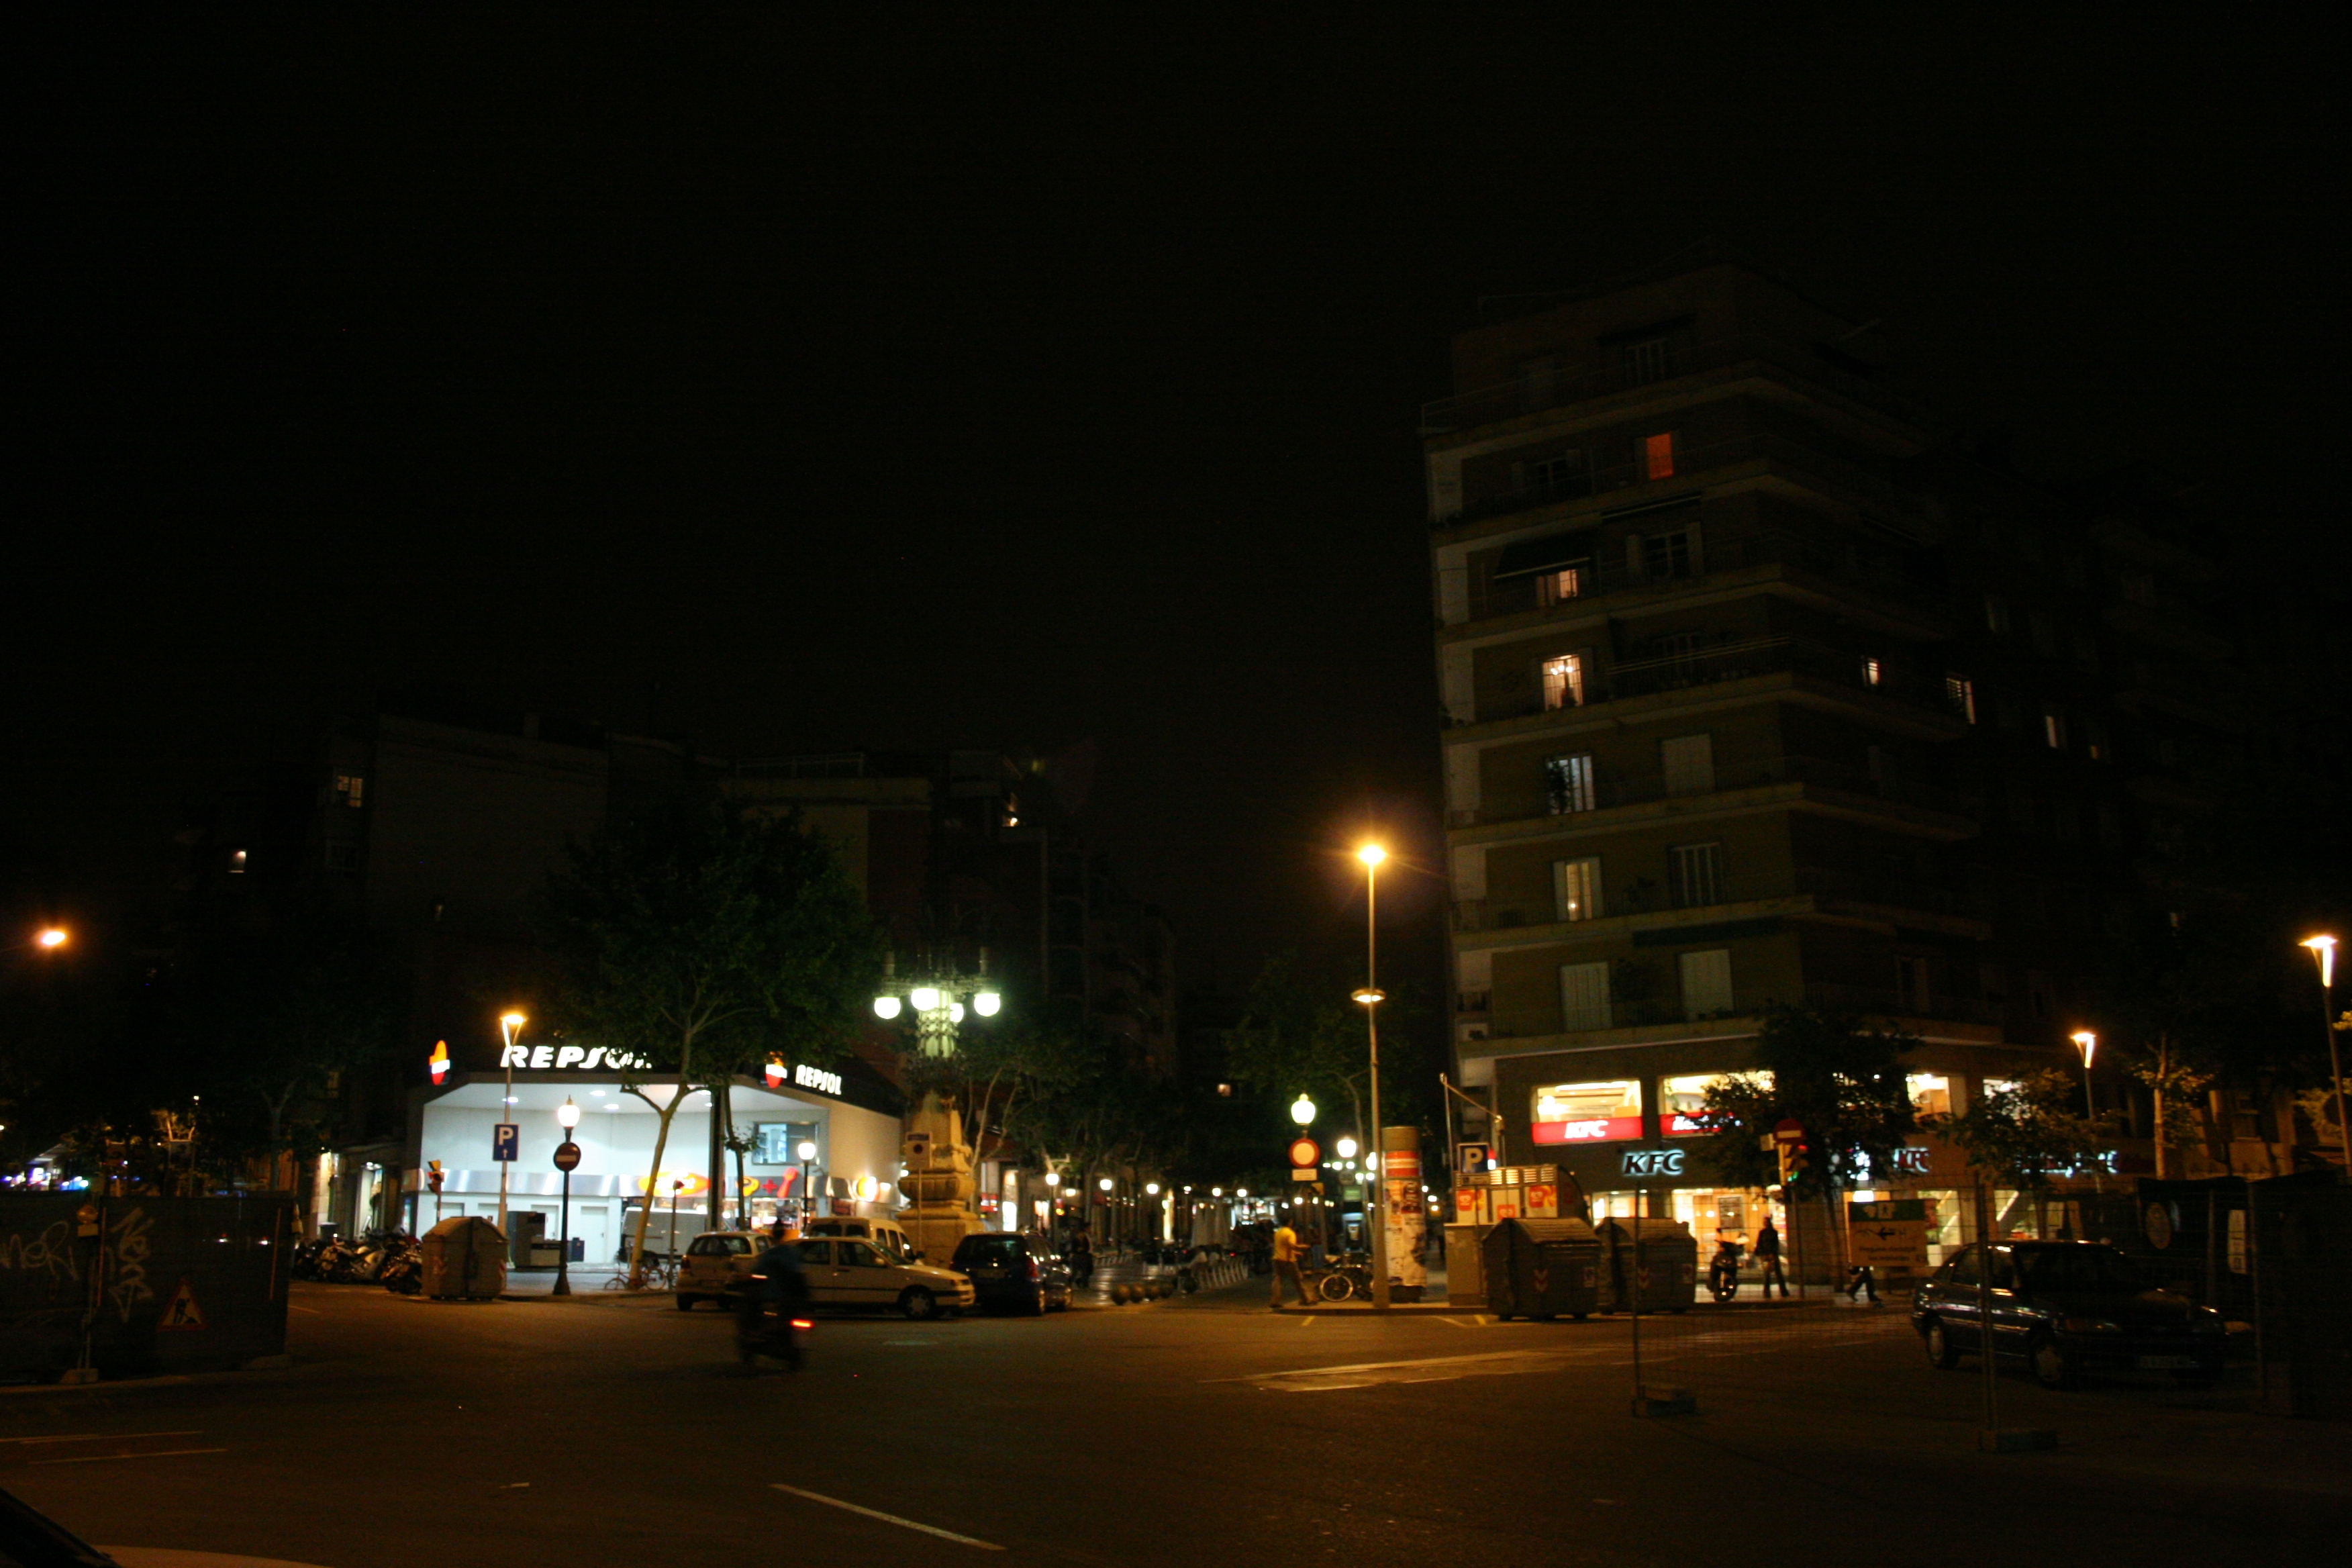car: (1906, 1228, 2236, 1407)
